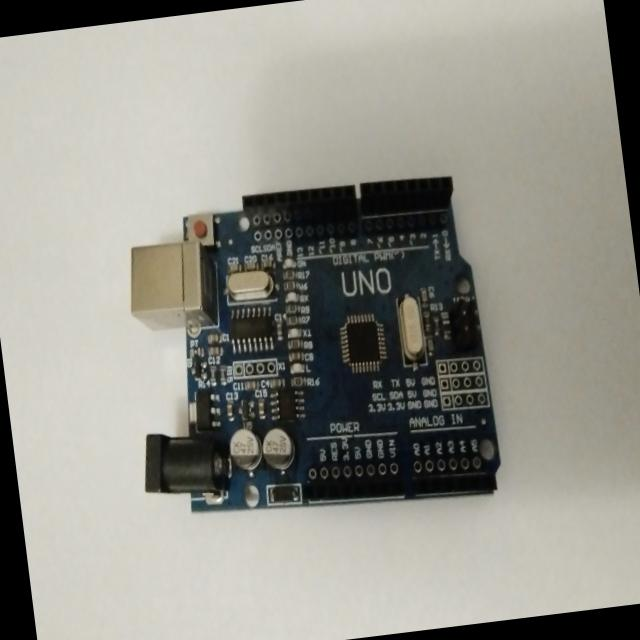arduino: (120, 166, 512, 540)
